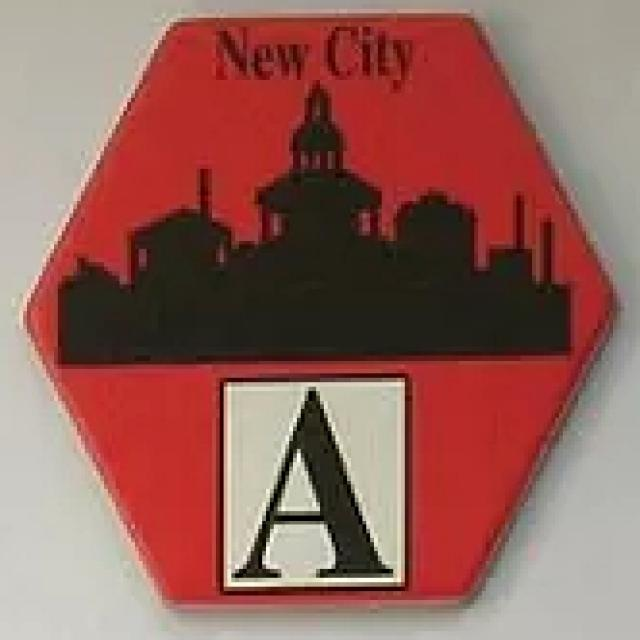16_0: (23, 14, 625, 611)
